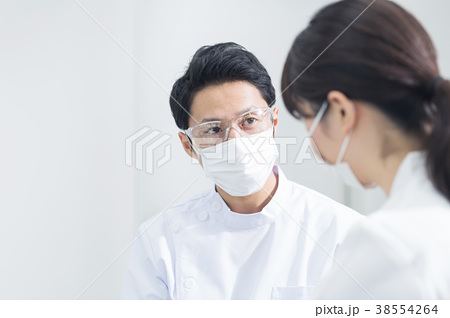mask: (193, 133, 287, 192)
